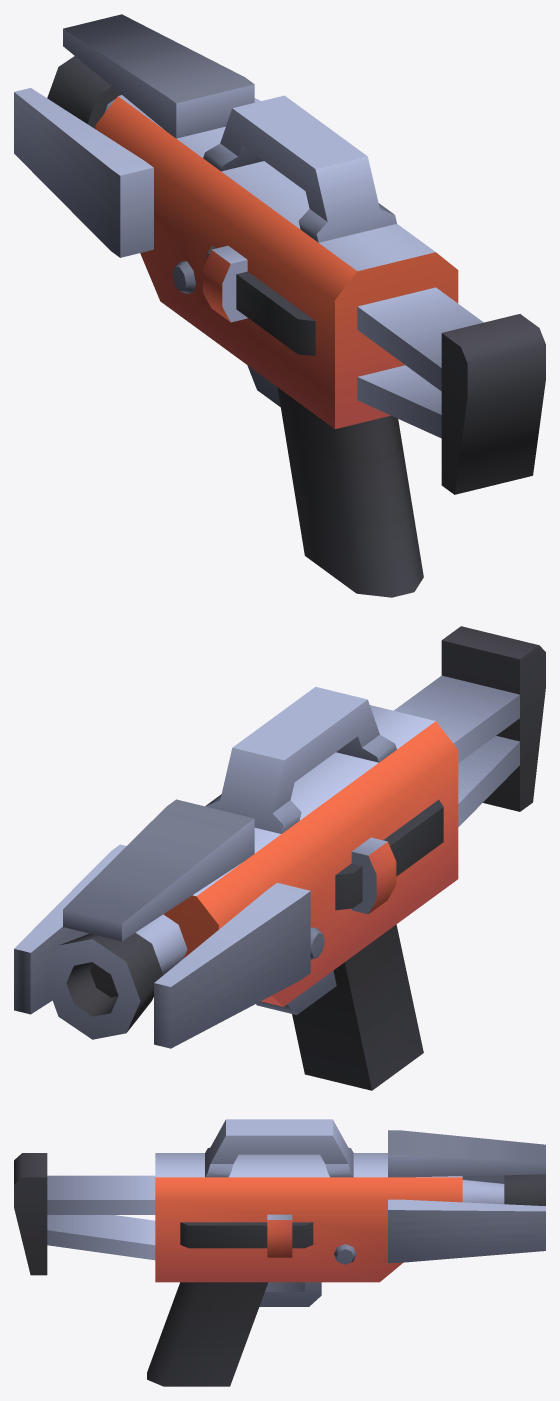
The model's file is blaster-n.glb.
The picture shows the model from 3 angles, top to bottom: view 1: azimuth 30°, elevation 25°; view 2: azimuth 150°, elevation 25°; view 3: azimuth 270°, elevation 25°; orthographic projection. The views are drawn at different scales.
Parts seen in each view (by area): view 1: blaster-n; view 2: blaster-n; view 3: blaster-n.
Boxes of the visible parts, x1,y1,x2,y2 form: blaster-n: (14, 14, 545, 597); blaster-n: (14, 626, 545, 1090); blaster-n: (14, 1119, 545, 1386).
Size of the model in its own units: 0.17 by 0.33 by 0.6401.
Materials: 1 (1 with a texture image).
